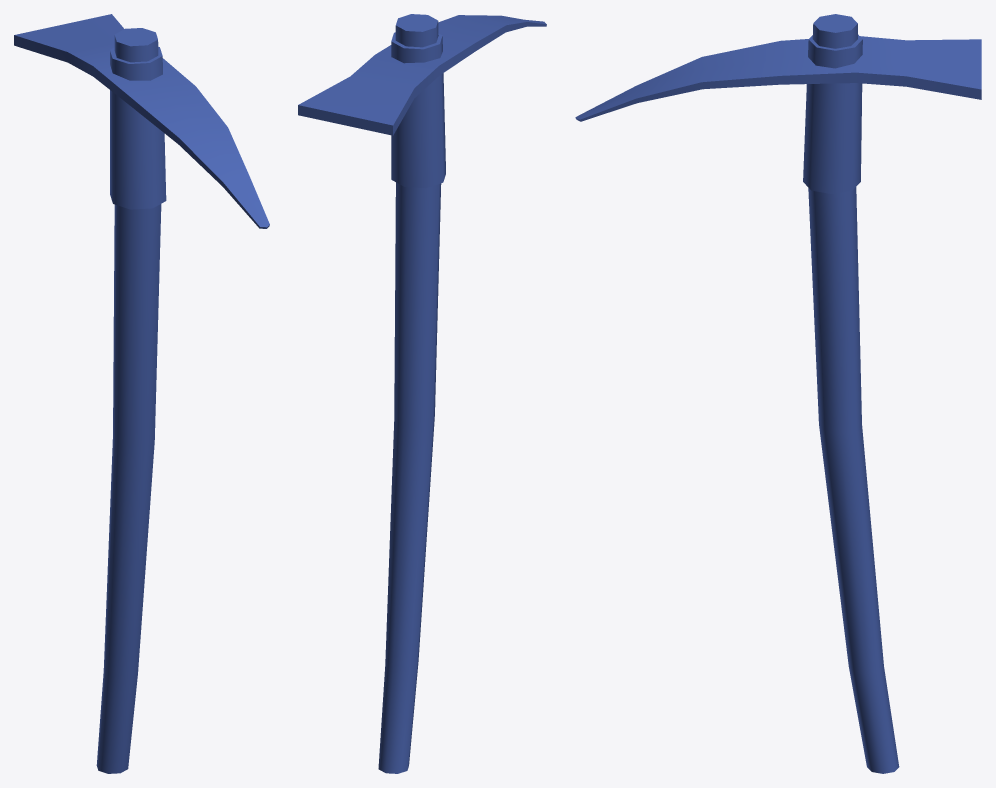
The model's file is picaxe.fbx.
3 views of the same model, side by side, from view 1: azimuth 30°, elevation 25°; view 2: azimuth 150°, elevation 25°; view 3: azimuth 270°, elevation 25° (orthographic). The views are drawn at different scales.
Visible parts, largest first — view 1: pCube149; view 2: pCube149; view 3: pCube149.
Boxes of the visible parts, bbox=[...] form: pCube149: bbox=[14, 14, 269, 773]; pCube149: bbox=[298, 14, 546, 773]; pCube149: bbox=[575, 14, 981, 773].
Size of the model in its own units: 0.1808 by 1.32 by 0.6539.
